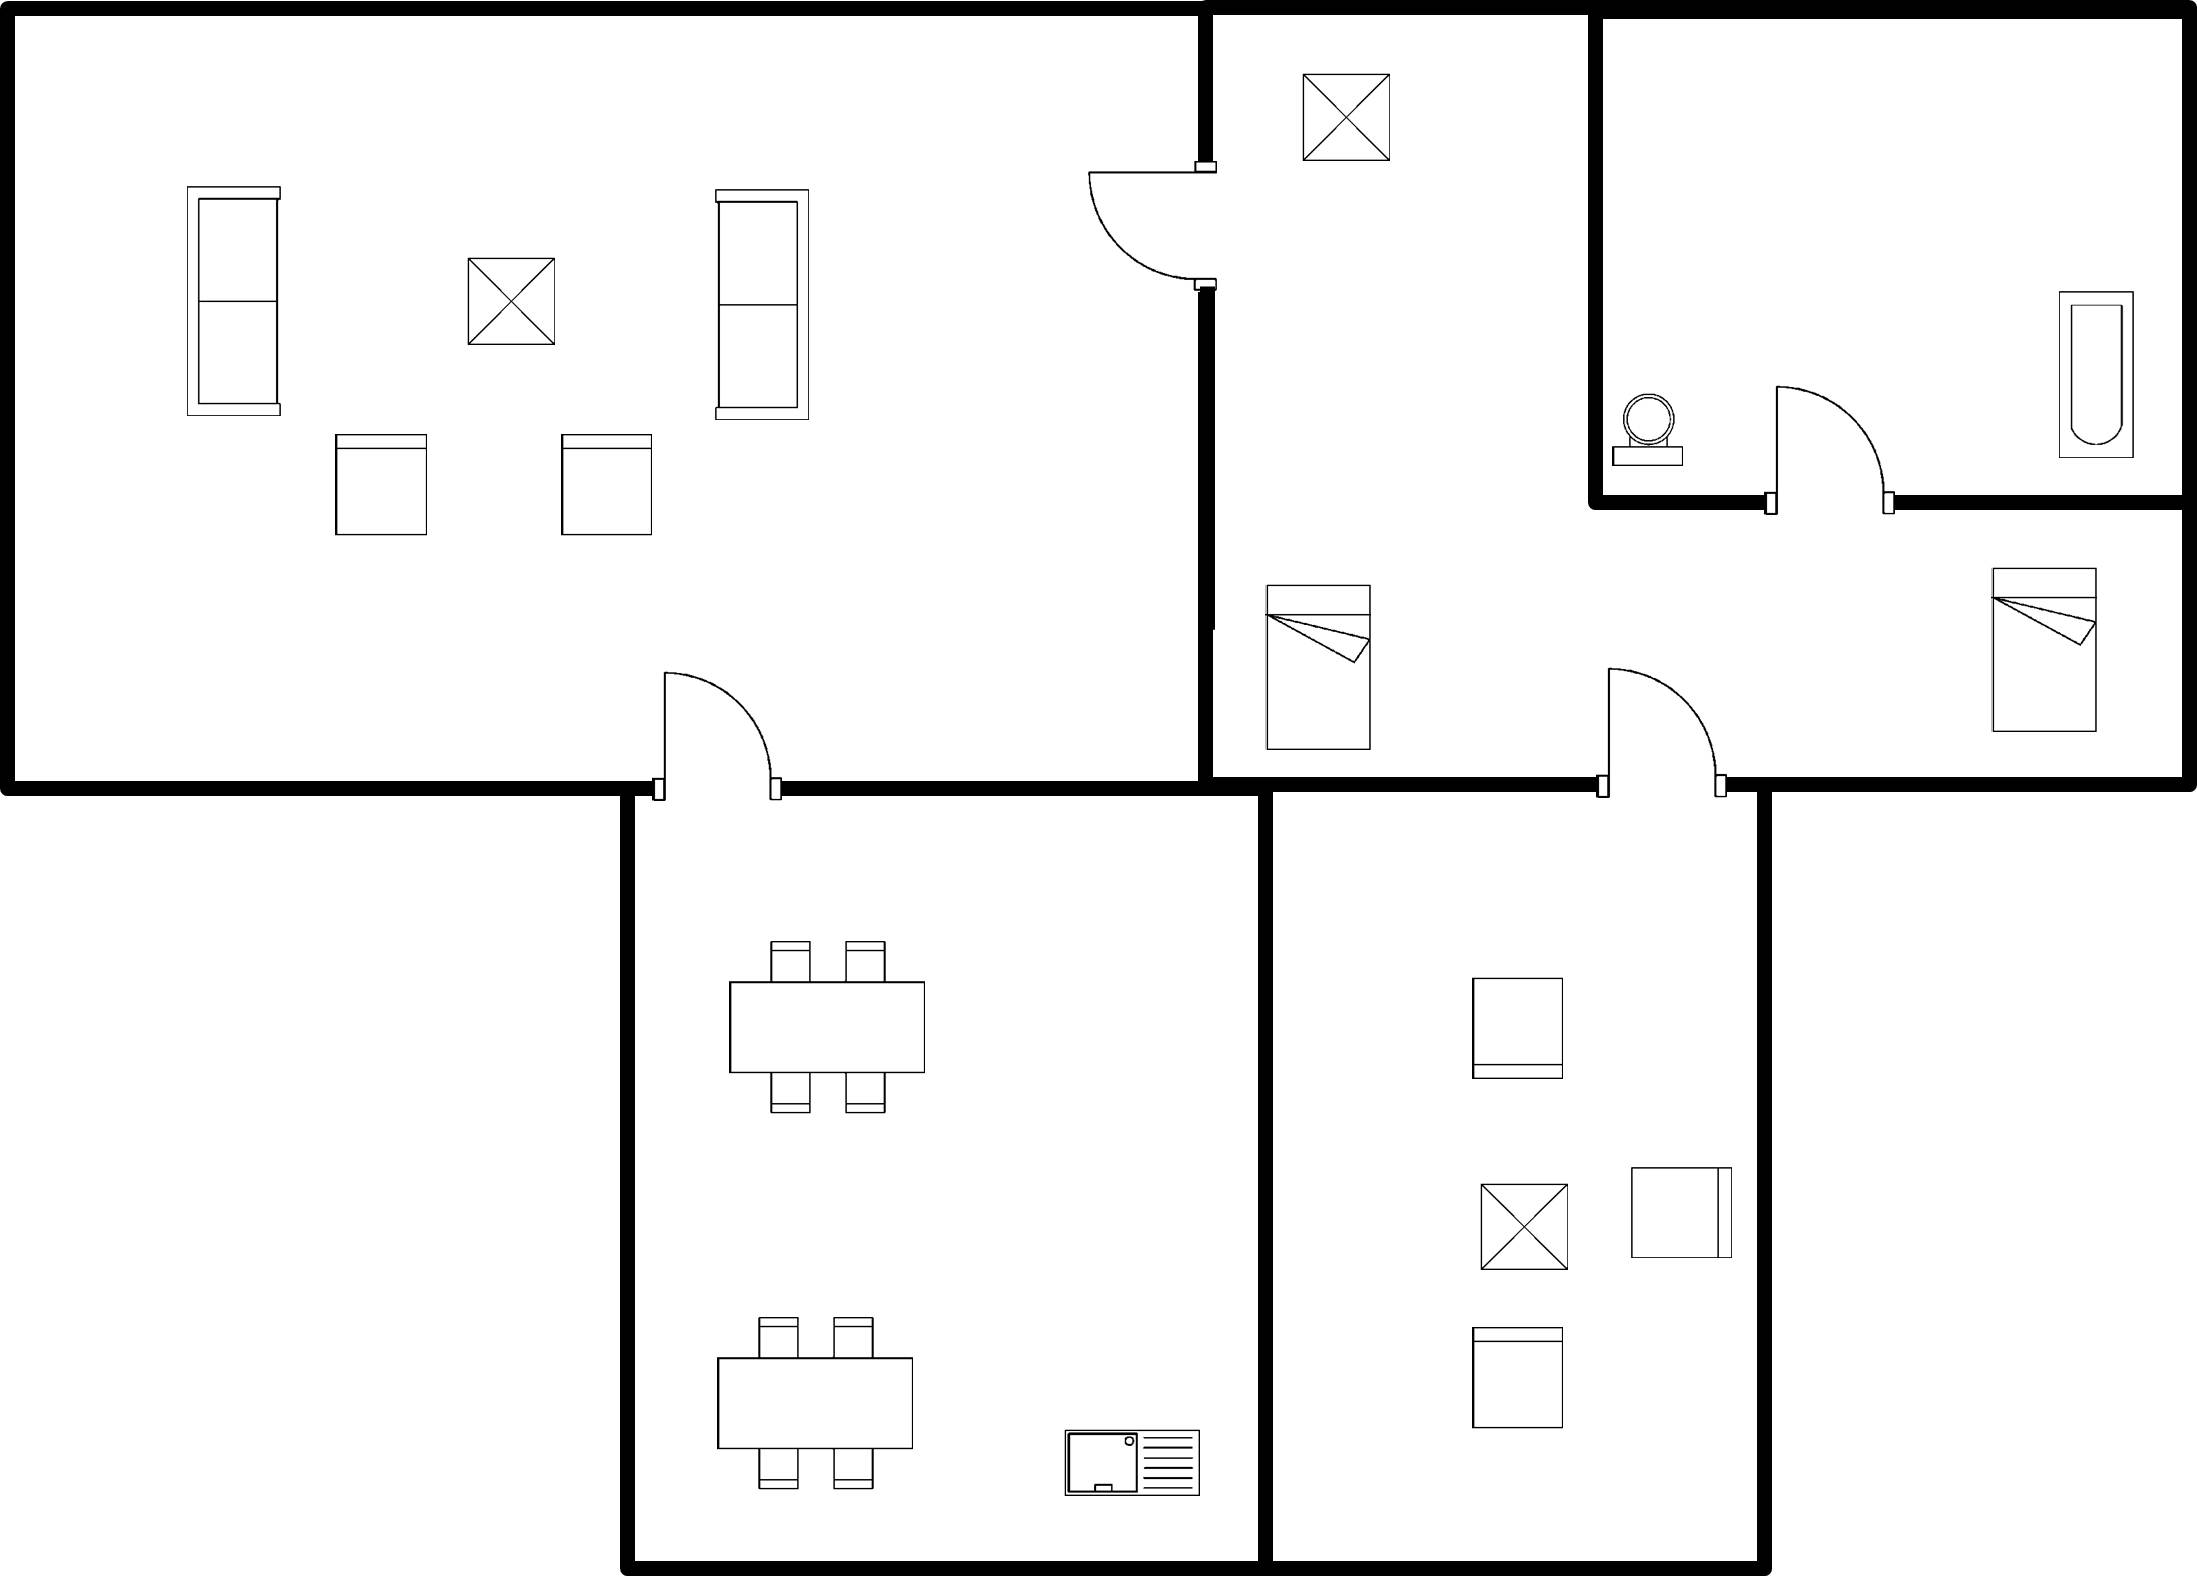bed: (1982, 554, 2108, 750), (1252, 575, 1383, 762)
coffee_table: (1289, 59, 1400, 178), (457, 247, 569, 354), (1471, 1167, 1575, 1279)
dining_table: (713, 926, 936, 1126), (703, 1303, 928, 1498)
large_sink: (1602, 387, 1692, 478)
large_sofa: (697, 172, 821, 429), (177, 165, 294, 431)
sink: (1053, 1419, 1211, 1511)
small_sofa: (1621, 1151, 1744, 1272), (1460, 1319, 1577, 1445), (1458, 964, 1575, 1092), (325, 420, 439, 551), (552, 422, 664, 545)
tub: (2044, 279, 2146, 469)
